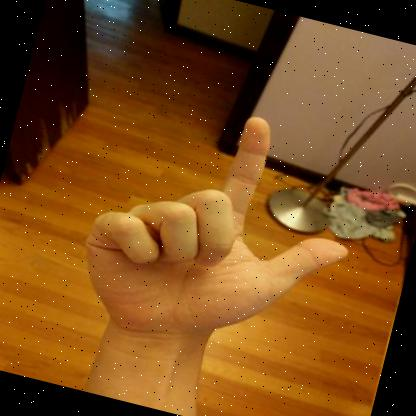L: (87, 117, 349, 340)
